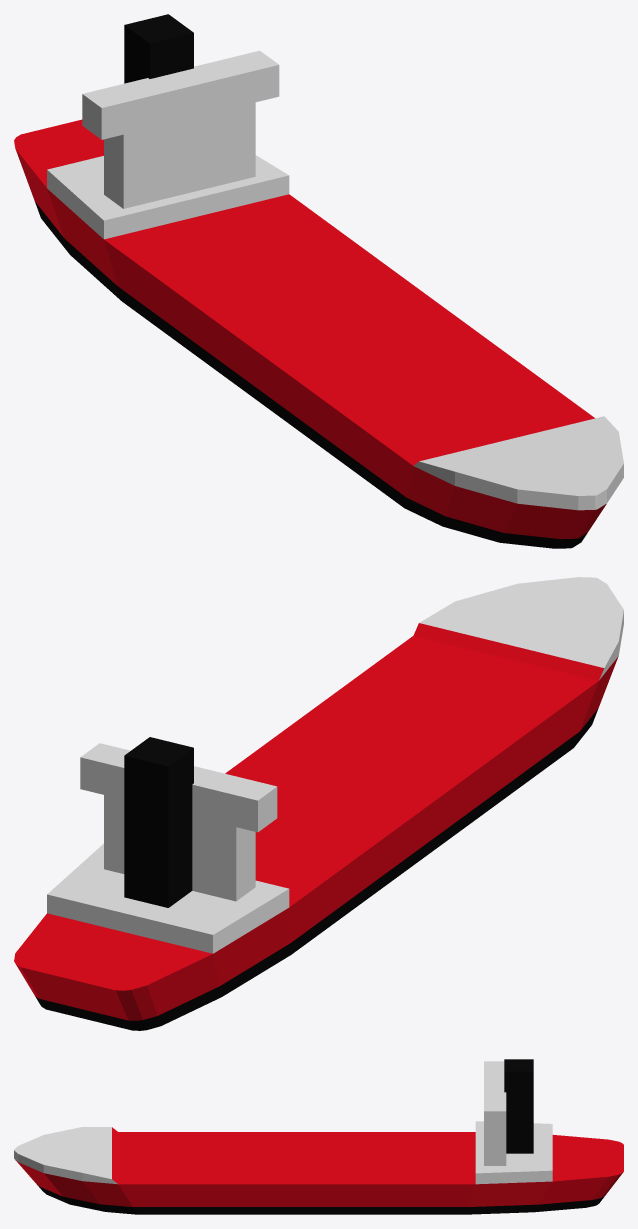
File: tanker.glb
3 renders of one model, top to bottom at view 1: azimuth 30°, elevation 25°; view 2: azimuth 150°, elevation 25°; view 3: azimuth 270°, elevation 25°, orthographic. The views are drawn at different scales.
Visible parts, largest first — view 1: shipbase, Cube, Cube.001; view 2: shipbase, Cube, Cube.001; view 3: shipbase, Cube.001, Cube.
Part boxes in pixels (<box>): shipbase: <box>14,119,623,548</box>; Cube: <box>82,50,279,208</box>; Cube.001: <box>124,14,193,83</box>; shipbase: <box>14,577,623,1030</box>; Cube: <box>80,743,277,901</box>; Cube.001: <box>124,737,193,907</box>; shipbase: <box>14,1121,623,1214</box>; Cube.001: <box>504,1059,533,1153</box>; Cube: <box>484,1061,506,1165</box>.
Bounding box in the file's own units: 17.98 × 20.14 × 88.75.
